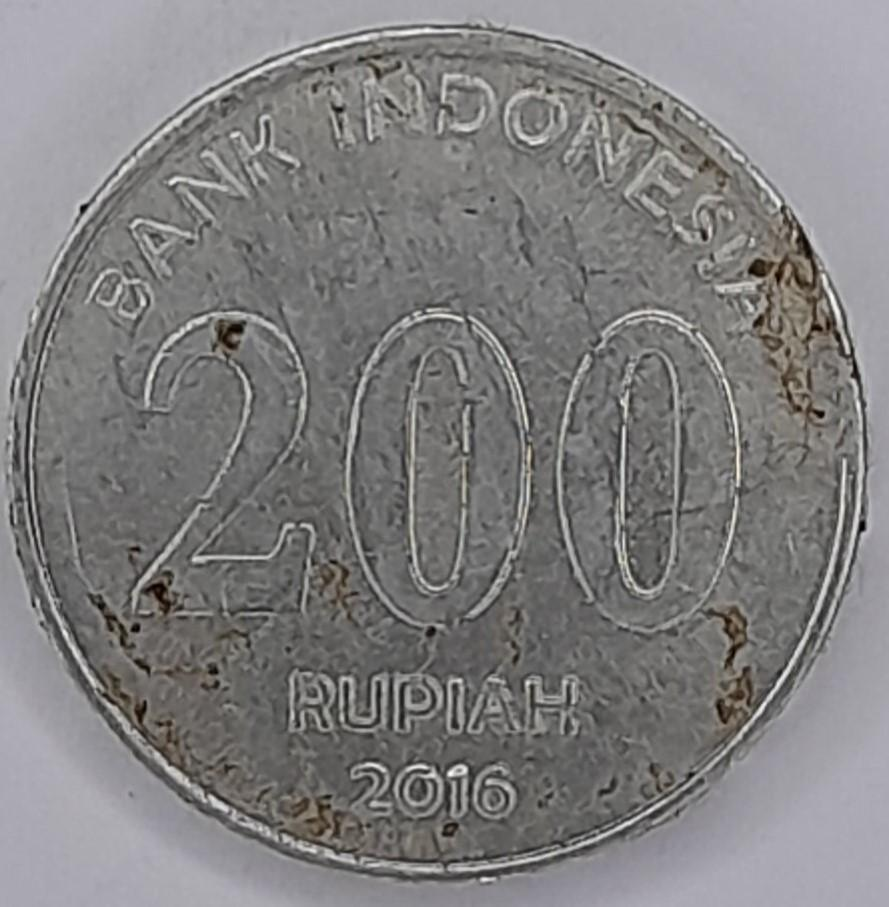coin_200_e2016: (0, 16, 889, 907)
